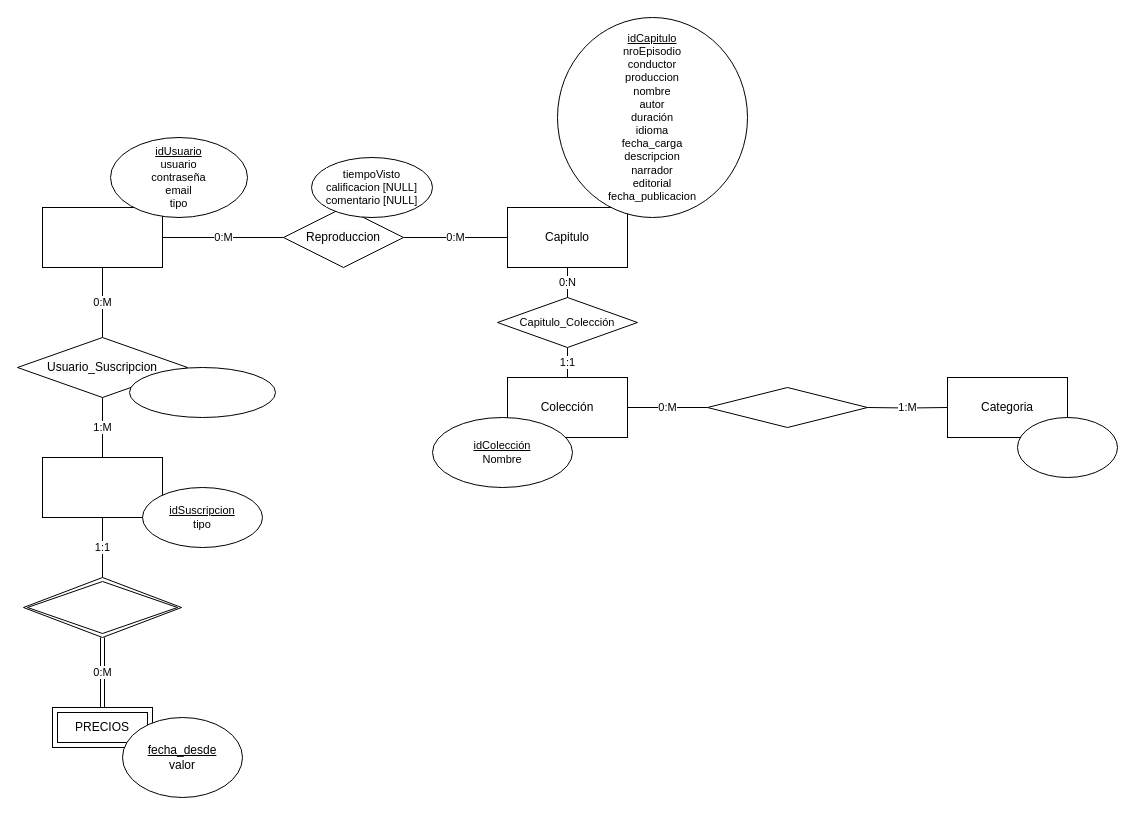
The diagram is 1135 pixels wide and 815 high, and some of its shapes have lost their labels. The centre of each missing label's shape, as x and y in pixels:
Coleccion _Categoria: (x=787, y=407)
fecha_desde [UNIQUE] fecha_hasta: (x=202, y=392)
idCategoria nombre: (x=1067, y=447)
Suscripcion: (x=102, y=487)
Suscripcion_Precio: (x=102, y=607)
Usuario: (x=102, y=237)
